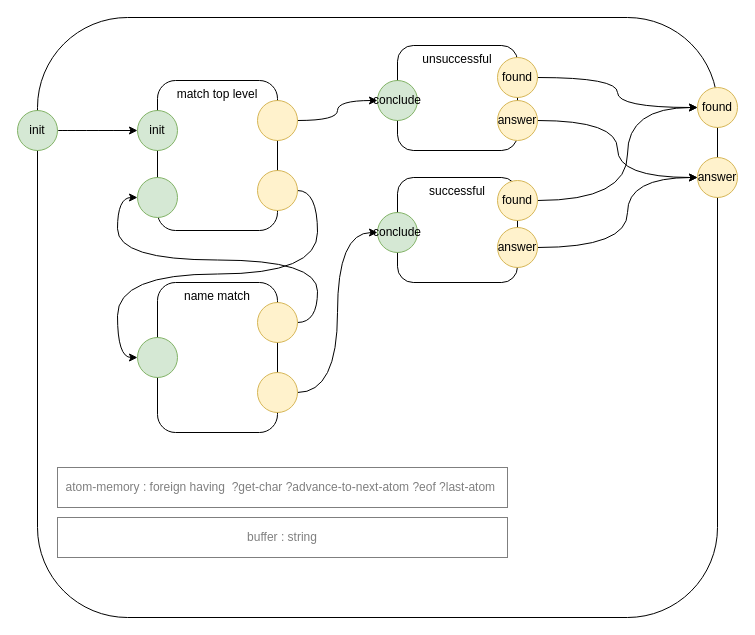
The diagram is 755 pixels wide and 635 high, and some of its shapes have lost their labels. Each missing label, with the centre of its shape:
"advance" goes at point 157,197.
"EOF" goes at point 277,120.
"go" goes at point 157,357.
"mismatch" goes at point 277,322.
"ok" goes at point 277,392.
"start name match" goes at point 277,190.
